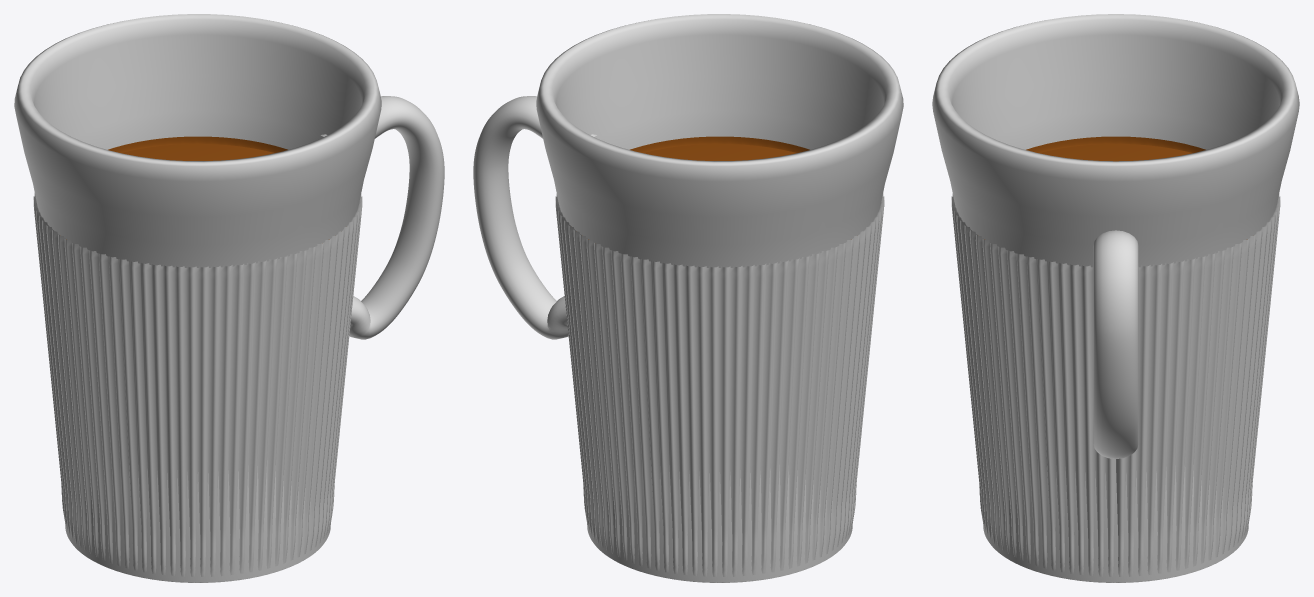
Rendered from faceted-glass-mug.glb.
The picture shows the model from 3 angles, left to right: view 1: azimuth 30°, elevation 25°; view 2: azimuth 150°, elevation 25°; view 3: azimuth 270°, elevation 25°; orthographic projection.
Parts seen in each view (by area): view 1: reeded_outer_wall, rim_band, inner_body, handle, tea; view 2: reeded_outer_wall, rim_band, inner_body, handle, tea; view 3: reeded_outer_wall, rim_band, inner_body, handle, tea.
Boxes of the visible parts, bbox=[...] form: reeded_outer_wall: bbox=[33, 193, 362, 582]; rim_band: bbox=[14, 14, 381, 267]; inner_body: bbox=[65, 460, 330, 582]; handle: bbox=[320, 96, 444, 339]; tea: bbox=[66, 136, 329, 239]; reeded_outer_wall: bbox=[555, 193, 884, 582]; rim_band: bbox=[536, 14, 903, 267]; inner_body: bbox=[587, 460, 852, 582]; handle: bbox=[473, 96, 597, 339]; tea: bbox=[588, 136, 851, 239]; reeded_outer_wall: bbox=[951, 194, 1280, 582]; rim_band: bbox=[932, 14, 1299, 267]; inner_body: bbox=[983, 465, 1248, 582]; handle: bbox=[1093, 230, 1138, 458]; tea: bbox=[984, 136, 1247, 239].
Size of the model in its own units: 0.1073 by 0.112 by 0.085.
